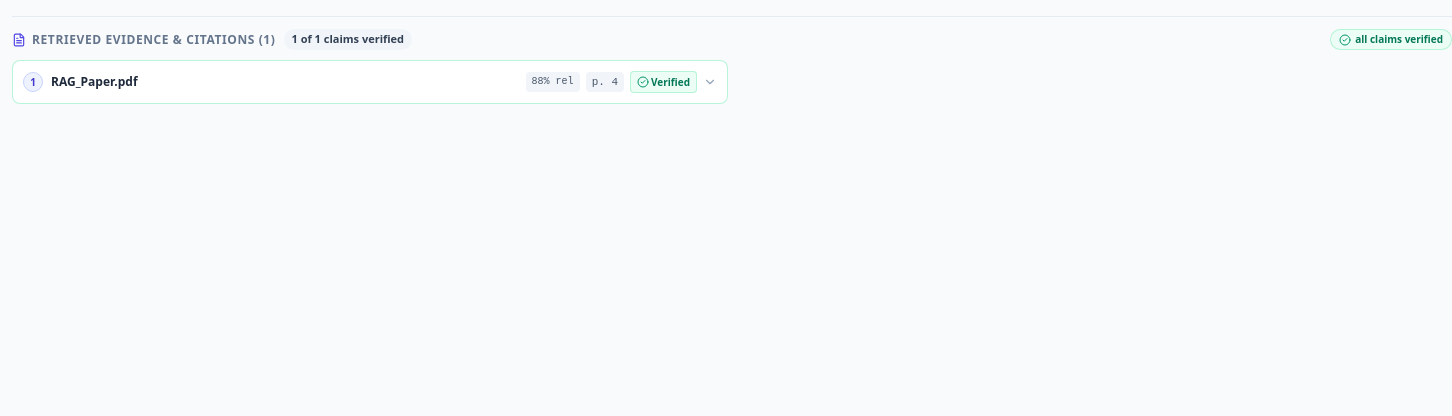
Frontend Component Tests: SourceCitation › renders exact highlighted supporting spans and referenced claim when available
Click the text "RAG_Paper.pdf" at (94, 82), box top-left (51, 74), bottom-right (138, 90)
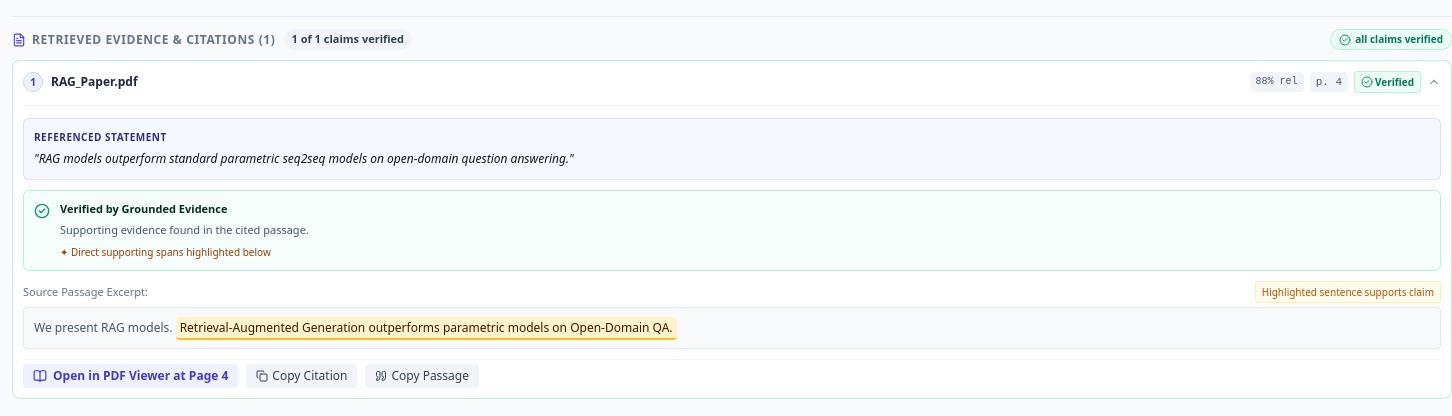
Expected: the text "Referenced Statement" is shown, top-left (34, 130), bottom-right (167, 144)
Expected: the text "\"RAG models outperform standard parametric seq2seq models on open-domain question answering.\"" is shown, top-left (34, 150), bottom-right (574, 167)
Expected: the text "Highlighted sentence supports claim" is shown, top-left (1255, 281), bottom-right (1441, 303)
